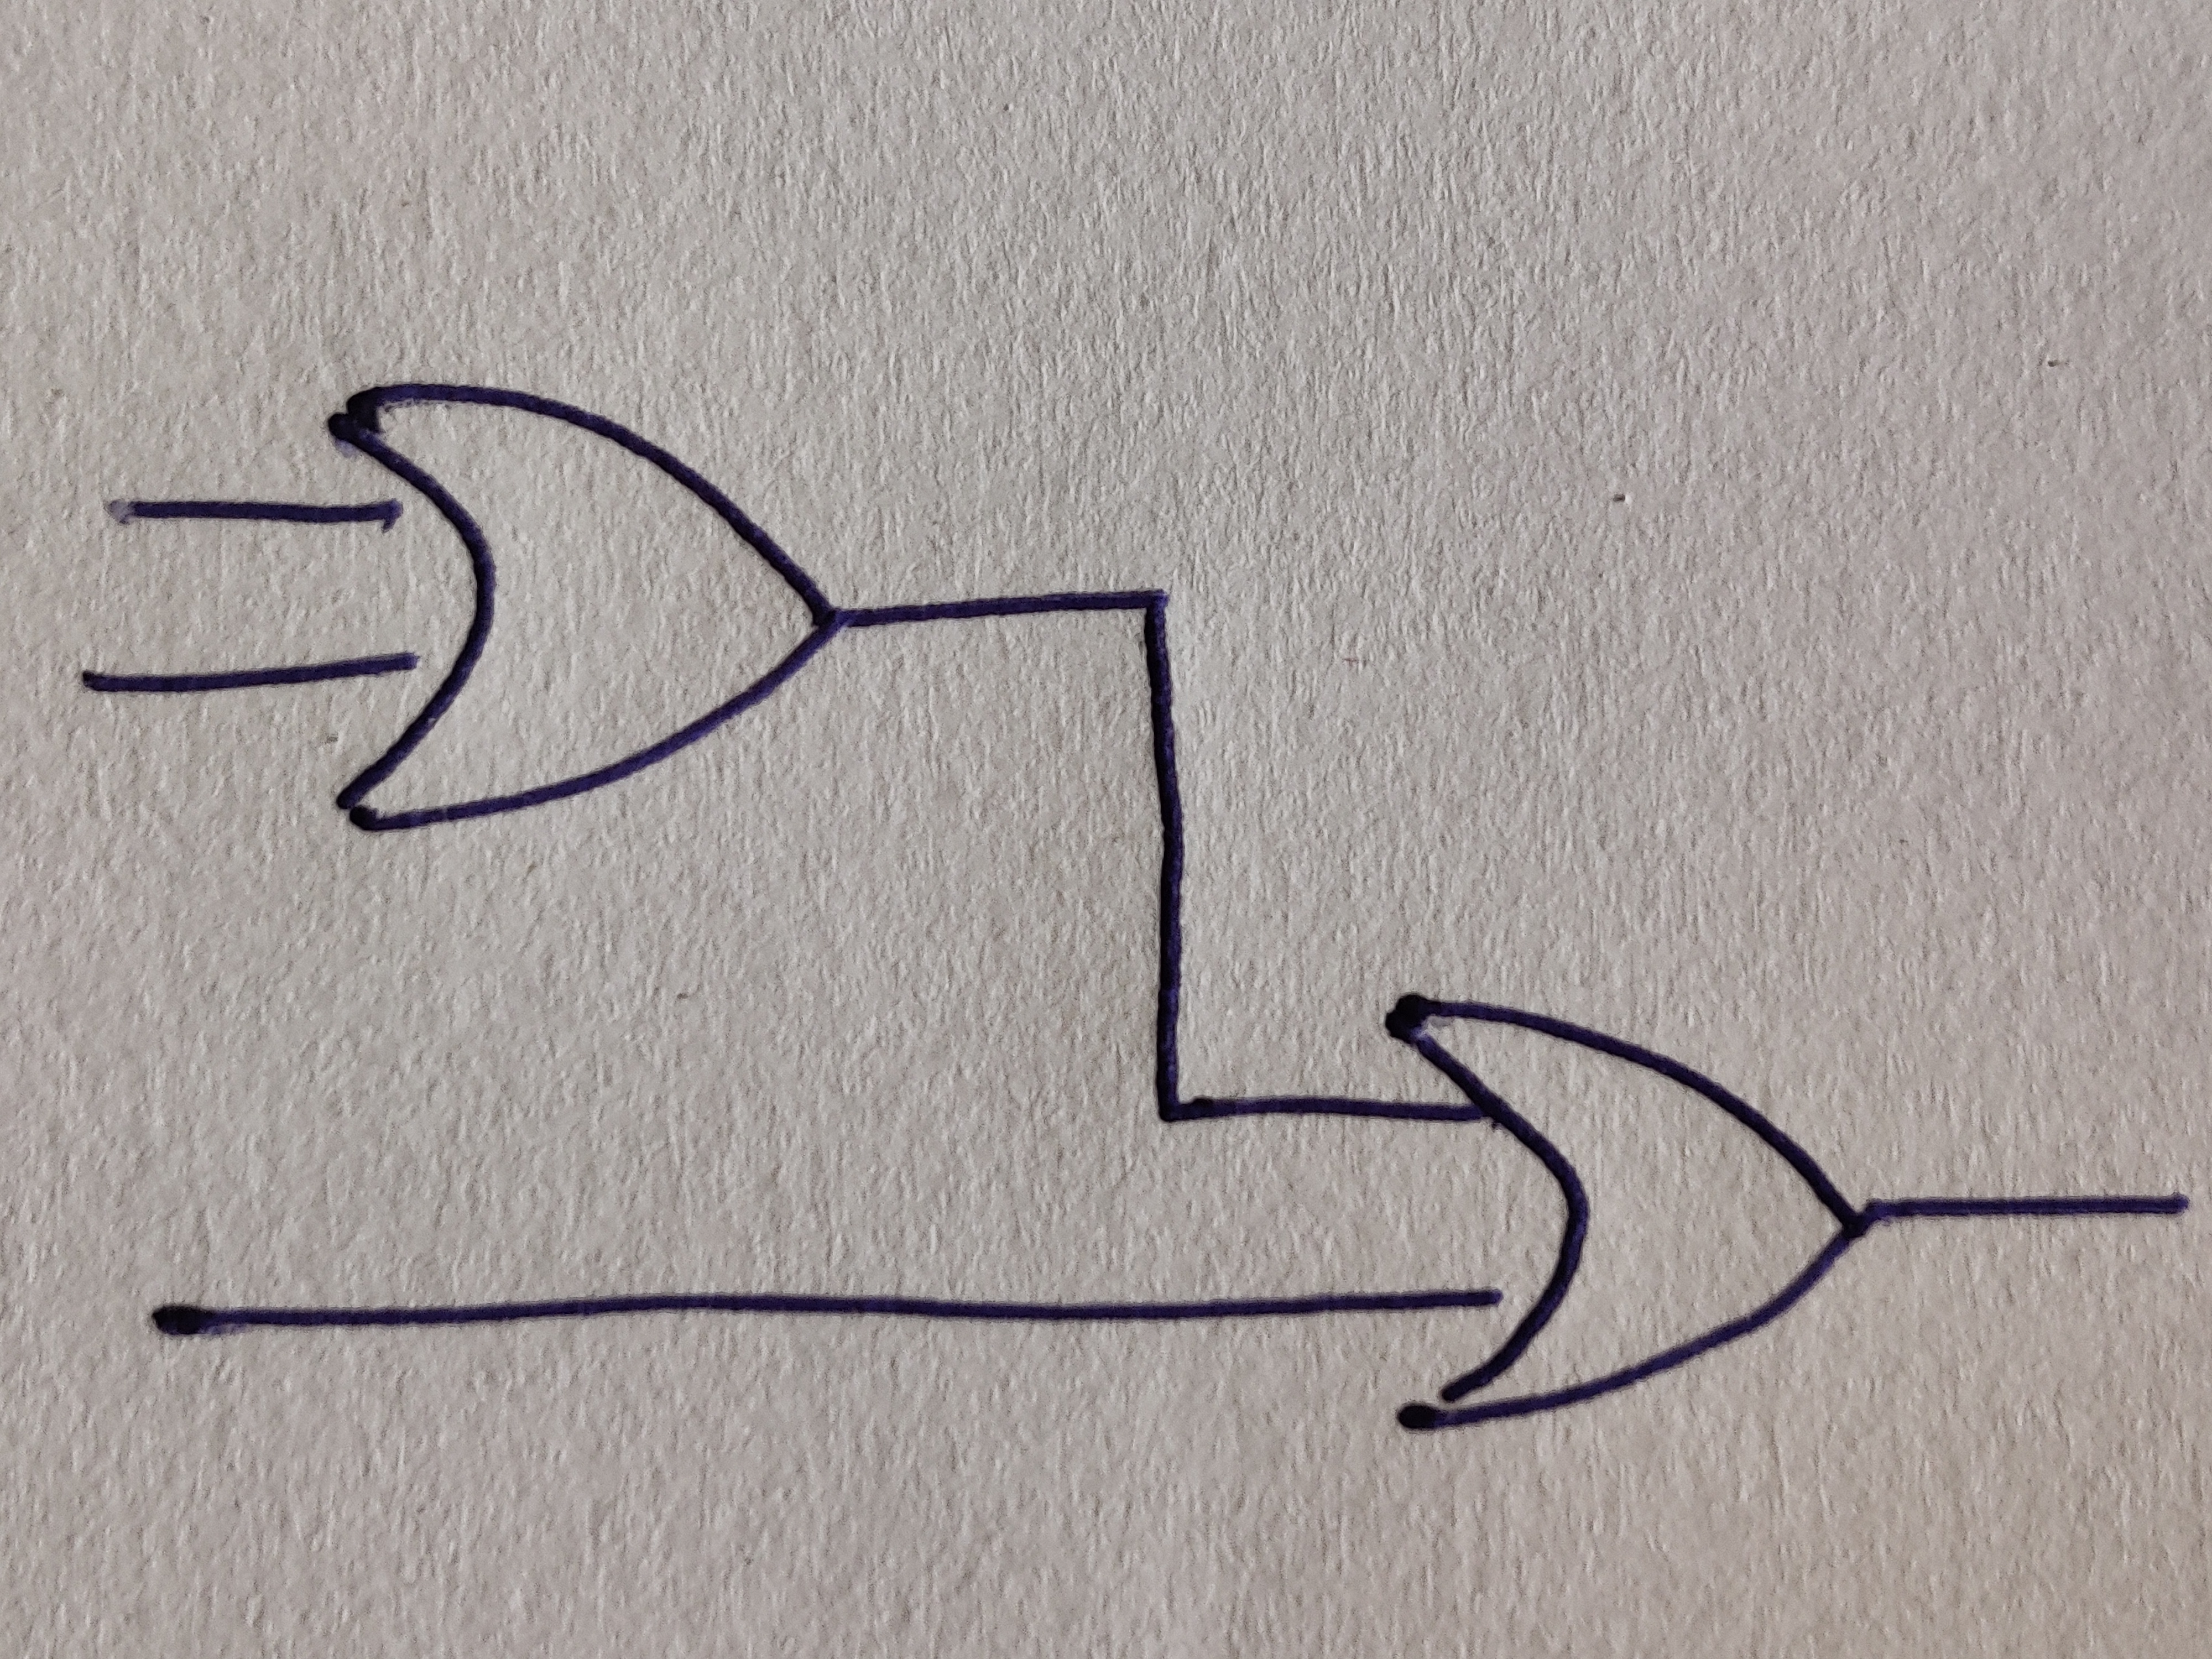or: (329, 385, 838, 833), (1383, 995, 1867, 1432)
